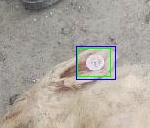text: (77, 48, 110, 76)
